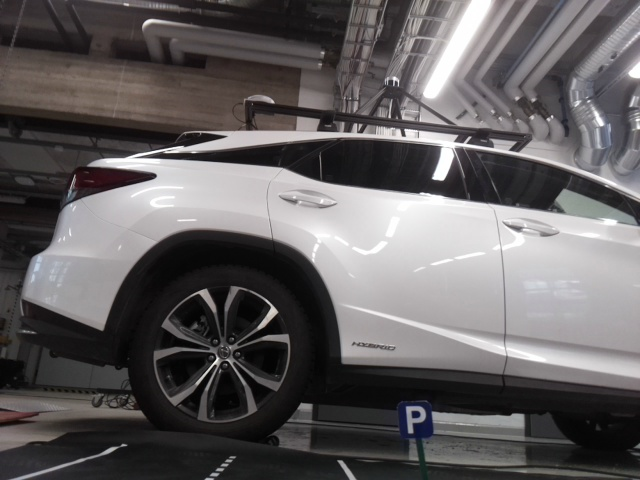Parking: (396, 400, 436, 438)
